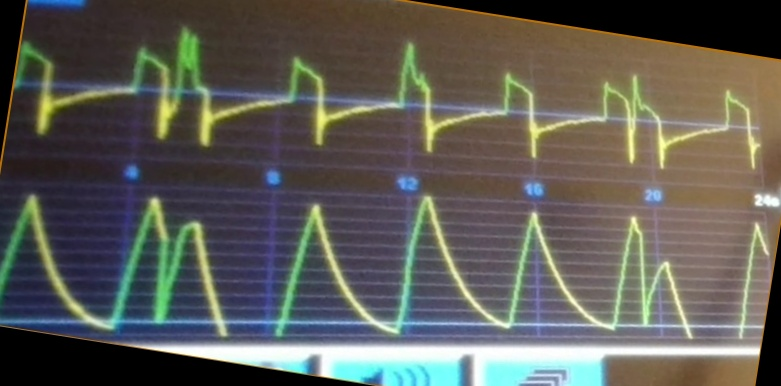Double_Triggering Flow: (26, 21, 676, 164)
Double_Triggering Volume: (15, 192, 732, 339)
